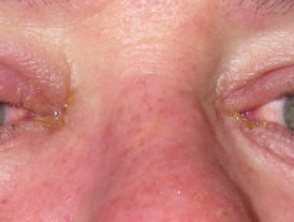SJS-TEN: (198, 76, 285, 151), (0, 65, 76, 135)
